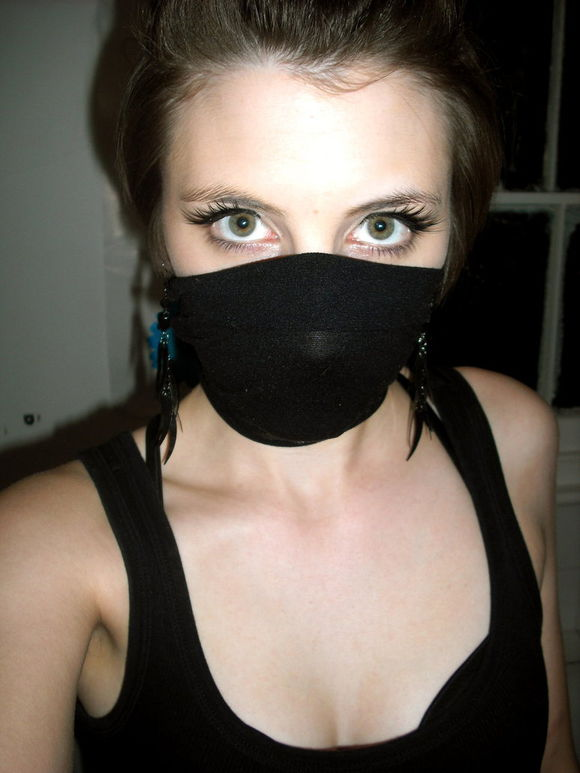face_mask: (172, 49, 448, 436)
